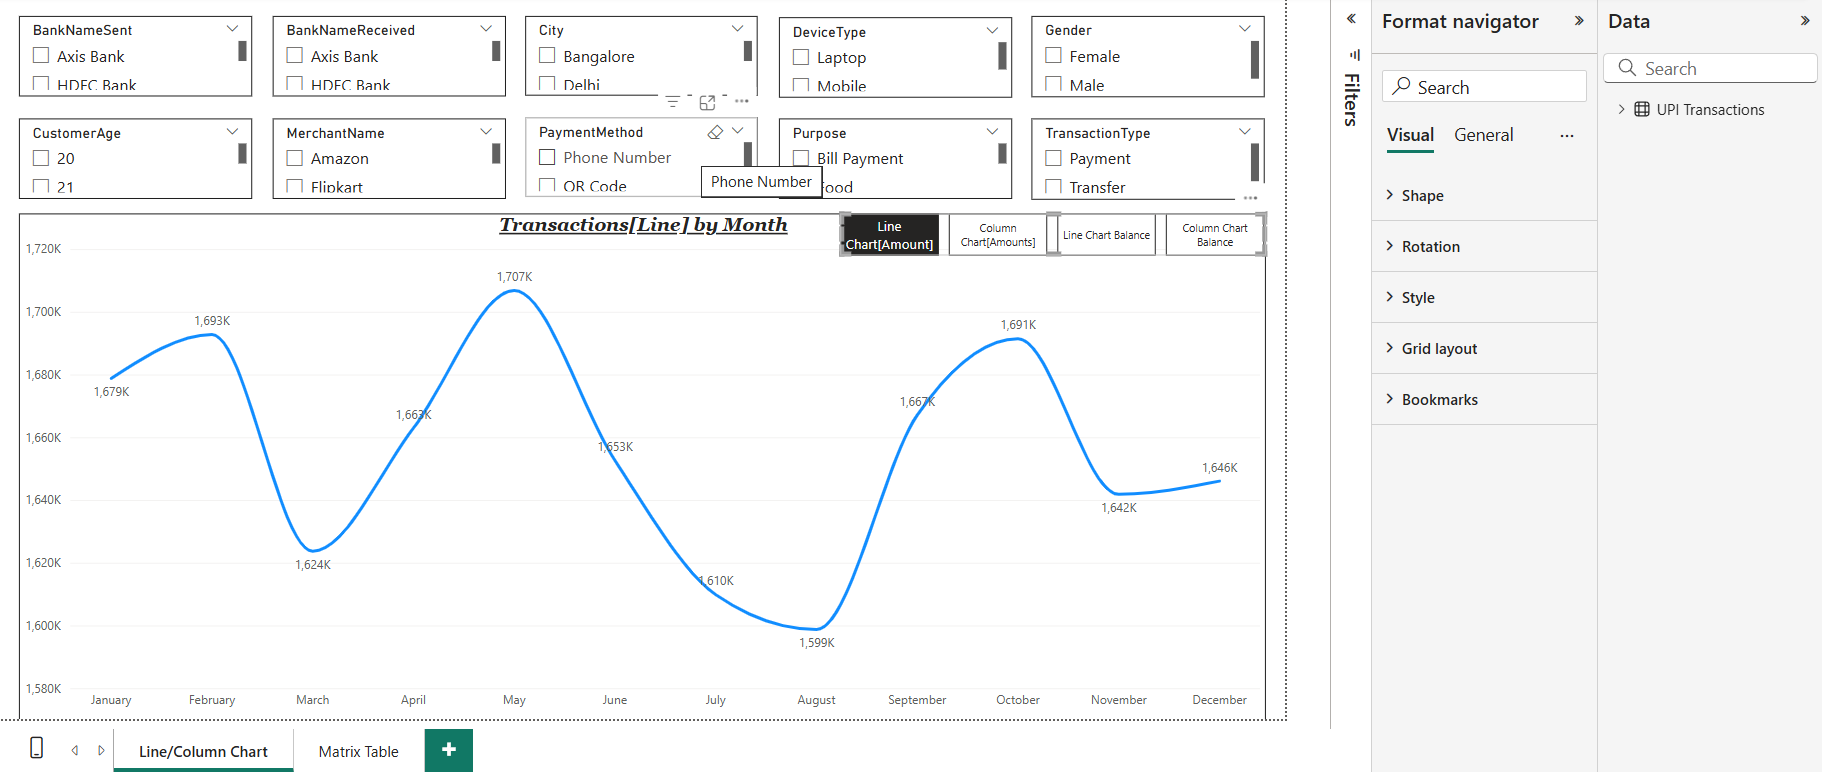

Layout of this report page (visuals, bound fields, positions):
{"tool":"powerbi","page":{"name":"Line/Column Chart","canvas":[1280,720],"ordinal":0},"visuals":[{"type":"slicer","fields":{"Values":["UPI Transactions.BankNameSent"]},"box":[20,20,232,80],"z":0},{"type":"slicer","fields":{"Values":["UPI Transactions.CustomerAge"]},"box":[20,121.4,232,80],"z":1000},{"type":"slicer","fields":{"Values":["UPI Transactions.BankNameReceived"]},"box":[272,20,232,80],"z":2000},{"type":"slicer","fields":{"Values":["UPI Transactions.MerchantName"]},"box":[272,121.4,232,80],"z":3000},{"type":"slicer","fields":{"Values":["UPI Transactions.City"]},"box":[523.4,19.6,231.1,79.5],"z":4000},{"type":"slicer","fields":{"Values":["UPI Transactions.PaymentMethod"]},"box":[523.4,121,231.1,79.5],"z":5000},{"type":"slicer","fields":{"Values":["UPI Transactions.DeviceType"]},"box":[776,20.8,232,80],"z":6000},{"type":"slicer","fields":{"Values":["UPI Transactions.Purpose"]},"box":[776,122.2,232,80],"z":7000},{"type":"slicer","fields":{"Values":["UPI Transactions.Gender"]},"box":[1028,20,232,80.7],"z":8000},{"type":"slicer","fields":{"Values":["UPI Transactions.TransactionType"]},"box":[1028,121.4,232,80.7],"z":9000},{"type":"lineChart","title":"Balance by Month[Line]","fields":{"Category":["UPI Transactions.TransactionDate.Variation.Date Hierarchy.Month"],"Y":["Sum(UPI Transactions.RemainingBalance)"]},"box":[19,216.1,1241.6,503.9],"z":14000},{"type":"bookmarkNavigator","box":[836.6,216,424.5,42.2],"z":14500}]}

Visuals, with their boxes on the page's 1280x720 design canvas (x1, y1, x2, y2). These are canvas units, not pixel positions in the 1822x772 screenshot, which may show the page scaled, cropped or inside an application window:
slicer - UPI Transactions.BankNameSent: 20/20/252/100
slicer - UPI Transactions.CustomerAge: 20/121/252/201
slicer - UPI Transactions.BankNameReceived: 272/20/504/100
slicer - UPI Transactions.MerchantName: 272/121/504/201
slicer - UPI Transactions.City: 523/20/754/99
slicer - UPI Transactions.PaymentMethod: 523/121/754/200
slicer - UPI Transactions.DeviceType: 776/21/1008/101
slicer - UPI Transactions.Purpose: 776/122/1008/202
slicer - UPI Transactions.Gender: 1028/20/1260/101
slicer - UPI Transactions.TransactionType: 1028/121/1260/202
"Balance by Month[Line]" lineChart: 19/216/1261/720
bookmarkNavigator: 837/216/1261/258
